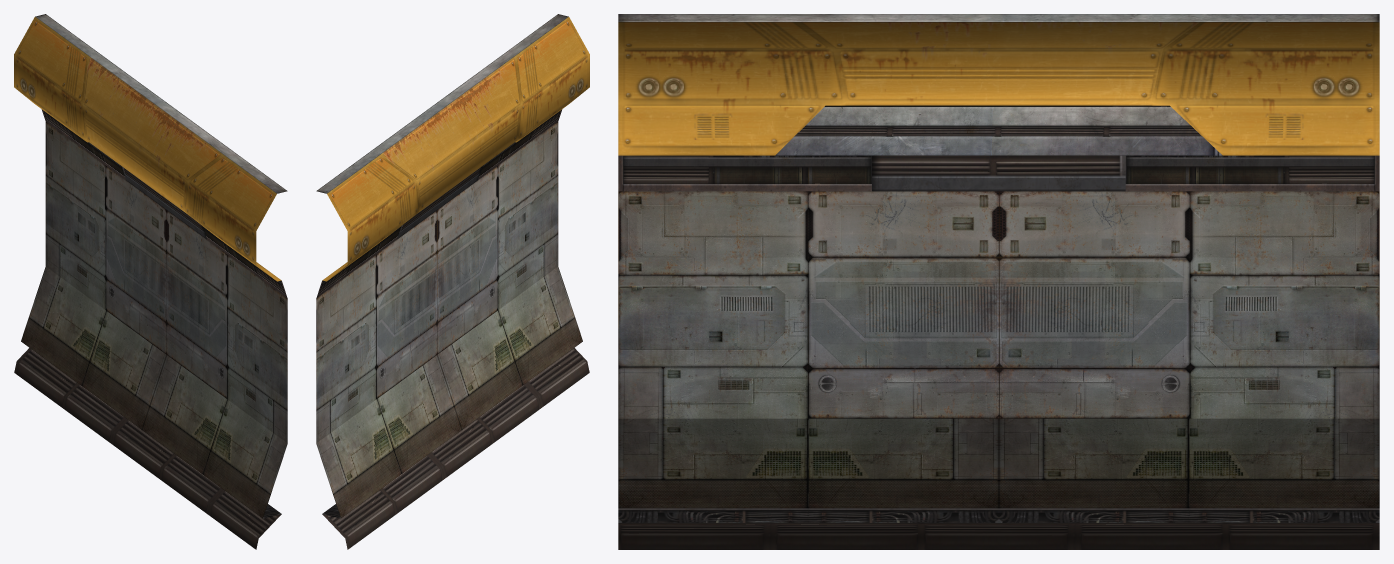
Rendered from ARC_WallSideA_04.FBX.
3 views of the same model, side by side, from view 1: azimuth 30°, elevation 25°; view 2: azimuth 150°, elevation 25°; view 3: azimuth 270°, elevation 25° (orthographic). The views are drawn at different scales.
Parts seen in each view (by area): view 1: ARC_WallSideA_04; view 2: ARC_WallSideA_04; view 3: ARC_WallSideA_04.
Boxes of the visible parts, x1,y1,x2,y2 form: ARC_WallSideA_04: [14, 14, 287, 549]; ARC_WallSideA_04: [316, 14, 589, 549]; ARC_WallSideA_04: [618, 14, 1379, 549].
Size of the model in its own units: 37.63 by 400 by 500.
Materials: 1 (1 with a texture image).
